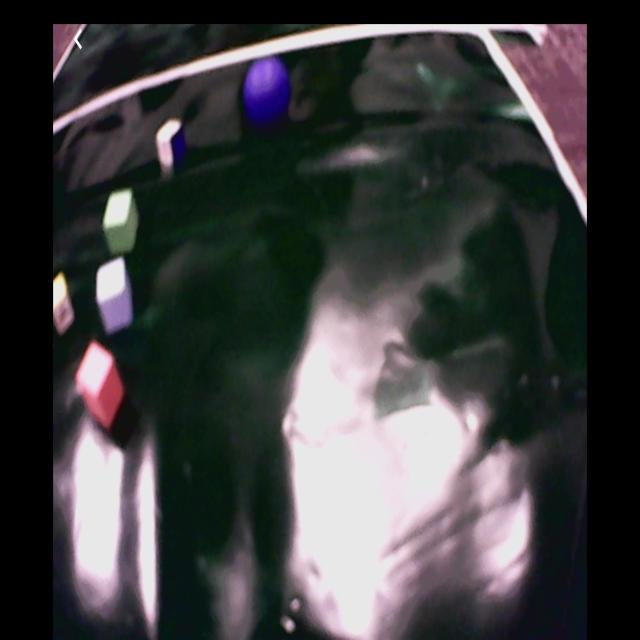ball: (245, 60, 289, 119)
